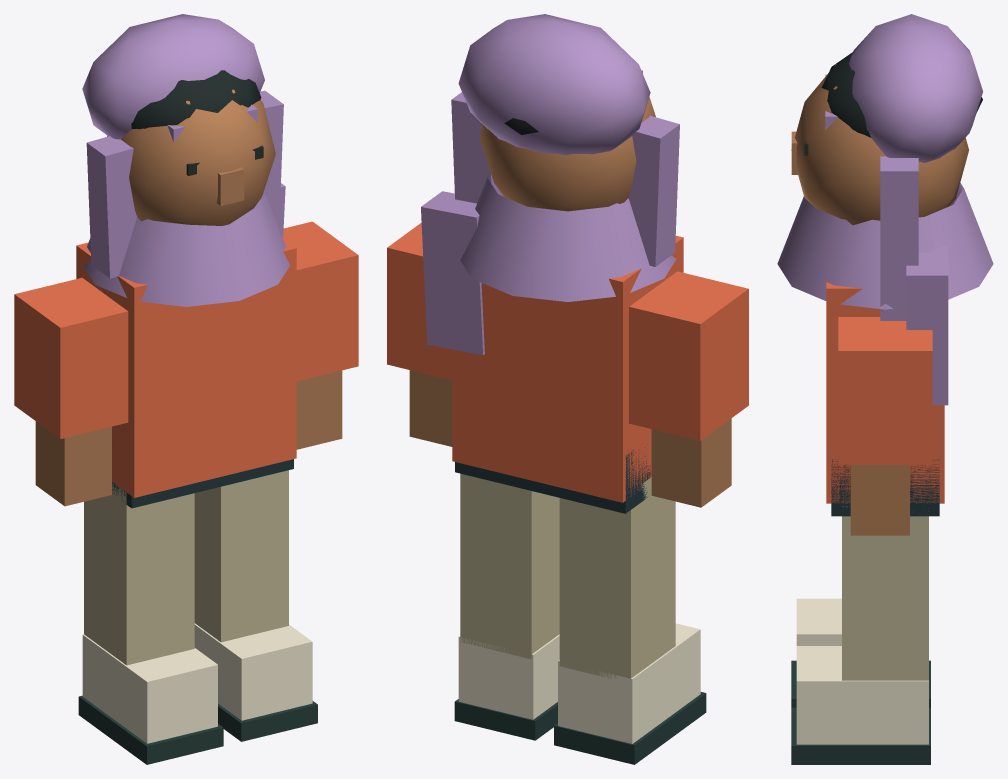
The model's file is female-tudung-satin.glb.
3 renders of one model, left to right at view 1: azimuth 30°, elevation 25°; view 2: azimuth 150°, elevation 25°; view 3: azimuth 270°, elevation 25°, orthographic. The views are drawn at different scales.
Parts seen in each view (by area): view 1: female-tudung-satin, avatar-tudung, tudung-neck-wrap; view 2: female-tudung-satin, avatar-tudung, tudung-neck-wrap; view 3: female-tudung-satin, avatar-tudung, tudung-neck-wrap.
Boxes of the visible parts, left/top/right/bottom form: female-tudung-satin: left=14, top=70, right=358, bottom=764; avatar-tudung: left=82, top=14, right=285, bottom=278; tudung-neck-wrap: left=83, top=191, right=290, bottom=306; female-tudung-satin: left=387, top=97, right=748, bottom=764; avatar-tudung: left=421, top=14, right=679, bottom=355; tudung-neck-wrap: left=460, top=175, right=676, bottom=301; female-tudung-satin: left=791, top=51, right=982, bottom=764; avatar-tudung: left=825, top=14, right=982, bottom=405; tudung-neck-wrap: left=777, top=183, right=993, bottom=309.
Size of the model in its own units: 1.01 by 2.2 by 0.62.
